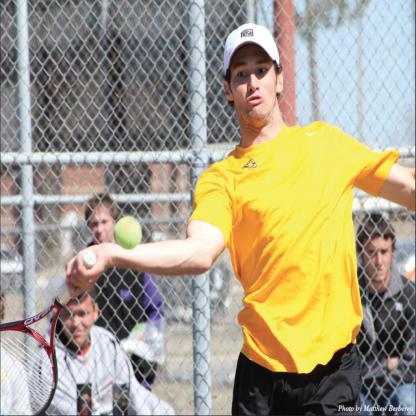face: (230, 46, 278, 122), (61, 297, 96, 349), (364, 233, 392, 283), (89, 209, 112, 250)
